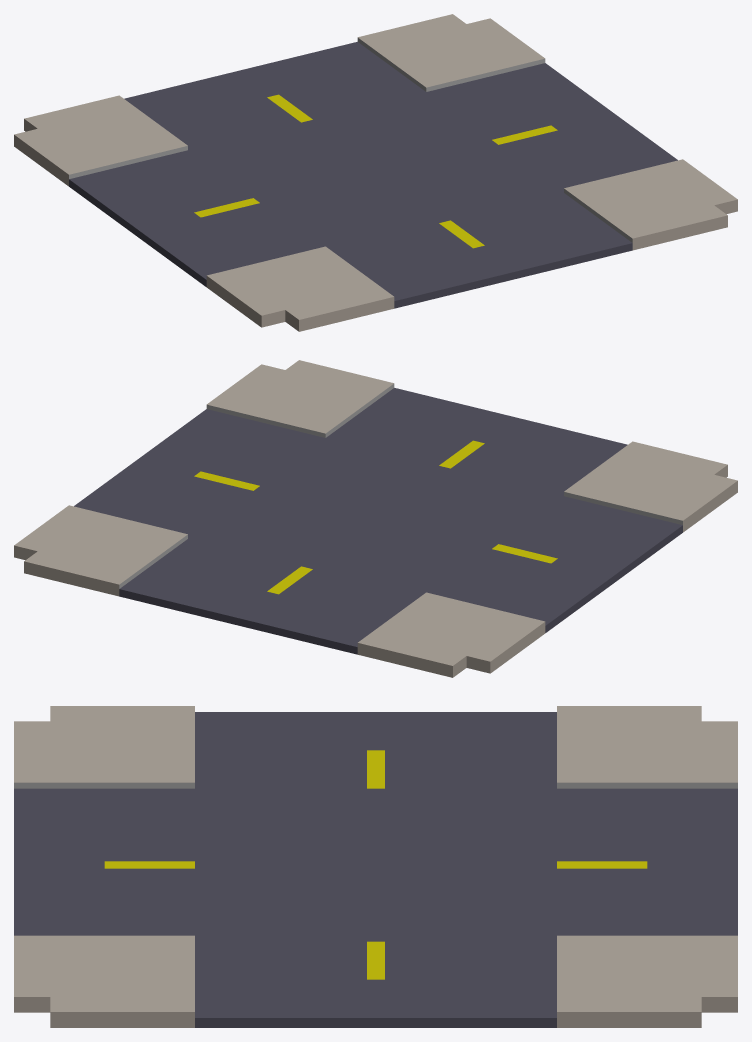
Rendered from Four-Way_Intersection.fbx.
3 renders of one model, top to bottom at view 1: azimuth 30°, elevation 25°; view 2: azimuth 150°, elevation 25°; view 3: azimuth 270°, elevation 25°, orthographic. The views are drawn at different scales.
Visible parts, largest first — view 1: Intersection; view 2: Intersection; view 3: Intersection.
Part boxes in pixels (x1=…): Intersection: x1=14, y1=14, x2=737, y2=331; Intersection: x1=14, y1=360, x2=737, y2=677; Intersection: x1=14, y1=706, x2=737, y2=1027.
Bounding box in the file's own units: 20 × 0.4785 × 20.
